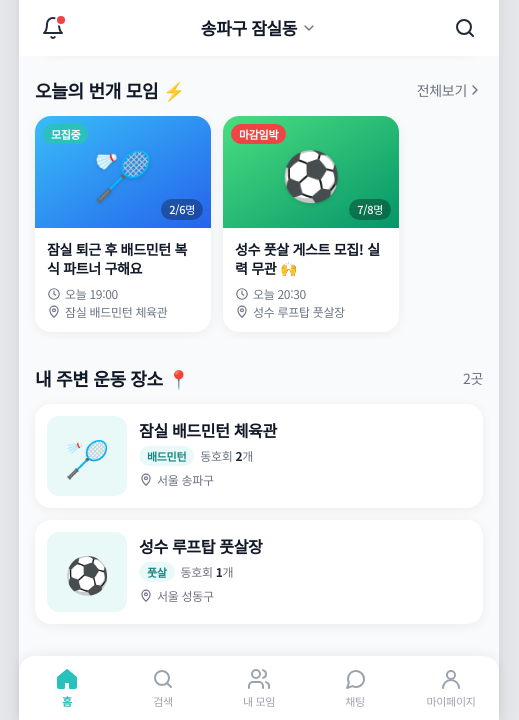
Test: 장소 카드를 누르면 동호회 메뉴판 화면으로 이동한다
(page scrolled)
Click the heading "잠실 배드민턴 체육관" at x=208, y=430, box left=139, top=418, right=277, bottom=442
(page scrolled)
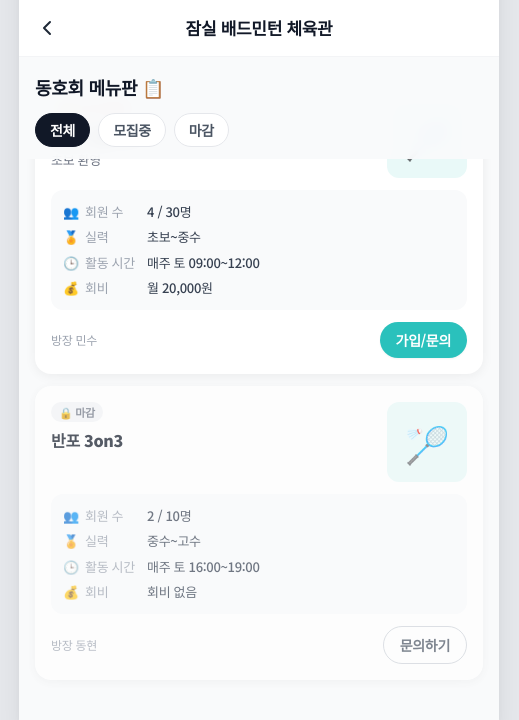
Expected: the heading "잠실 셔틀콕즈" is shown, left=51, top=124, right=142, bottom=148
